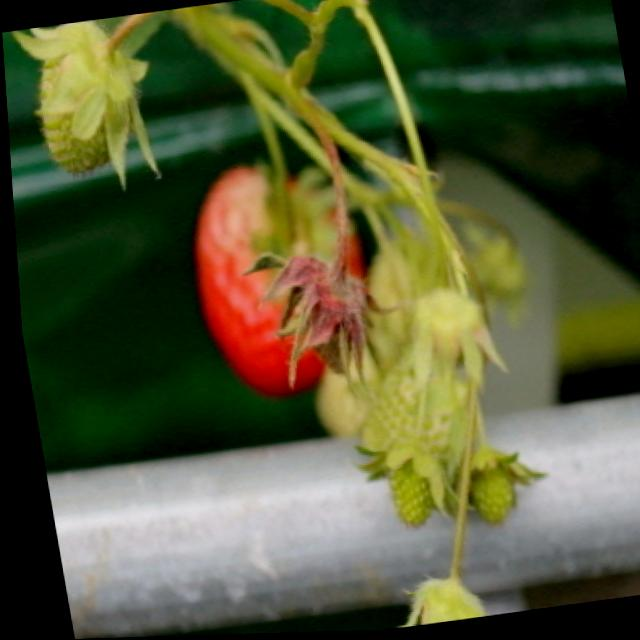Gray Mold: (233, 244, 394, 391)
